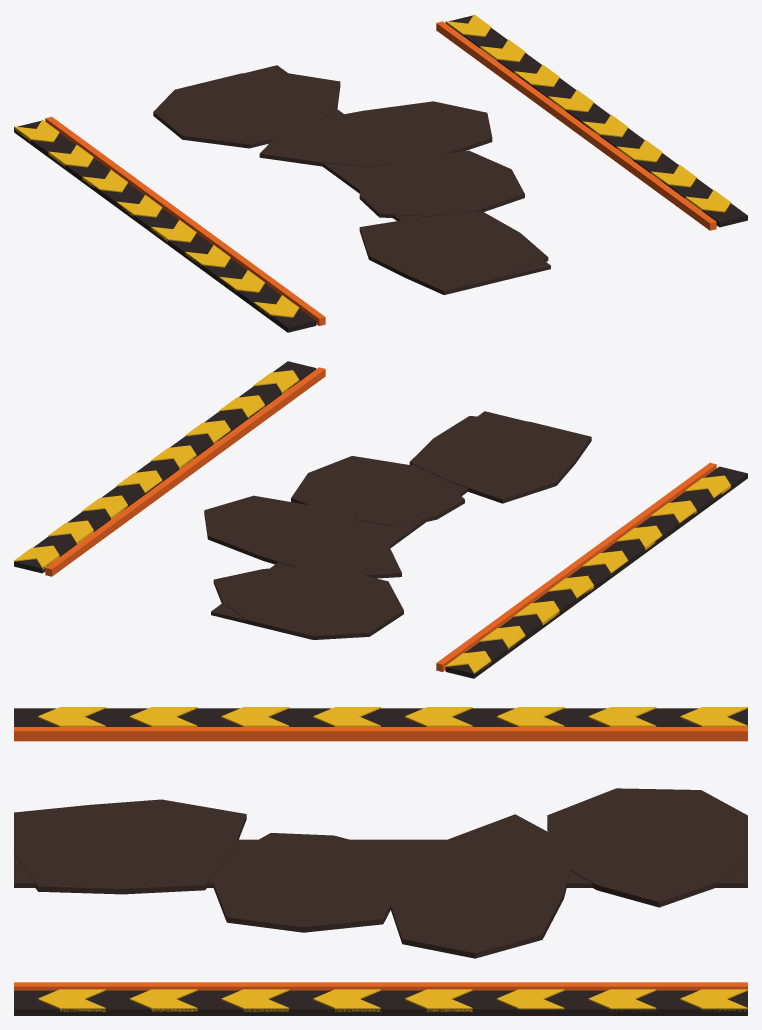
Rendered from trap_flame_lane__upper.glb.
3 renders of one model, top to bottom at view 1: azimuth 30°, elevation 25°; view 2: azimuth 150°, elevation 25°; view 3: azimuth 270°, elevation 25°, orthographic. The views are drawn at different scales.
Visible parts, largest first — view 1: Lane; view 2: Lane; view 3: Lane.
Part boxes in pixels (x1=…): Lane: x1=14, y1=14, x2=747, y2=332; Lane: x1=14, y1=361, x2=747, y2=678; Lane: x1=14, y1=707, x2=747, y2=1015.
Size of the model in its own units: 0.97 by 0.015 by 1.
